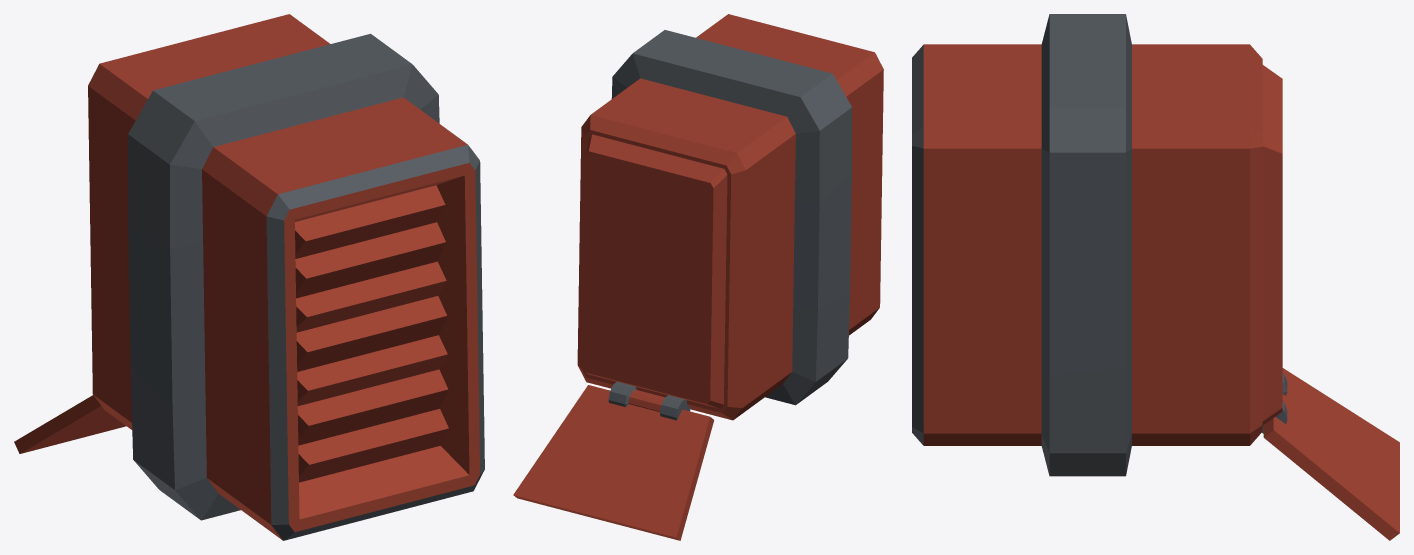
The model's file is Dropship_02_Glider_Red.fbx.
3 views of the same model, side by side, from view 1: azimuth 30°, elevation 25°; view 2: azimuth 150°, elevation 25°; view 3: azimuth 270°, elevation 25° (orthographic). The views are drawn at different scales.
Visible parts, largest first — view 1: Dropship_02_Glider_Red; view 2: Dropship_02_Glider_Red; view 3: Dropship_02_Glider_Red.
Boxes of the visible parts, x1,y1,x2,y2 form: Dropship_02_Glider_Red: (14, 14, 484, 540); Dropship_02_Glider_Red: (513, 14, 883, 540); Dropship_02_Glider_Red: (912, 14, 1399, 540).
Size of the model in its own units: 165 by 273 by 278.
1 material, 1 textured.
